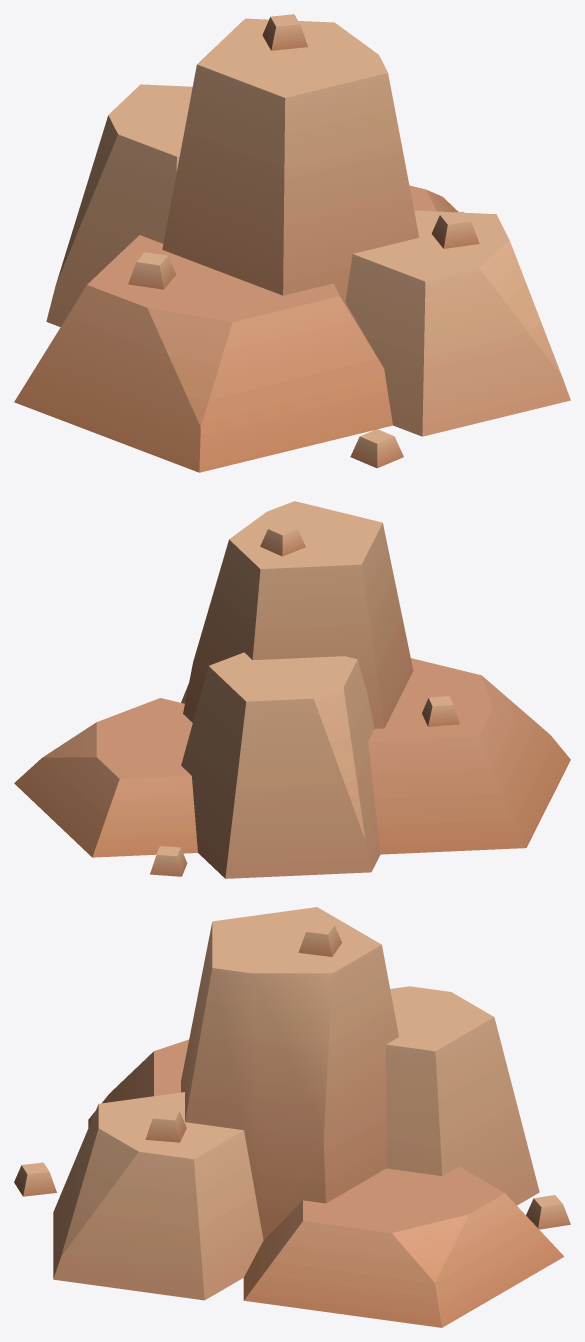
File: rock-sand-b.glb
3 views of the same model, one above another, from view 1: azimuth 30°, elevation 25°; view 2: azimuth 150°, elevation 25°; view 3: azimuth 270°, elevation 25° (orthographic). The views are drawn at different scales.
Parts seen in each view (by area): view 1: rock-sand-b; view 2: rock-sand-b; view 3: rock-sand-b.
Part boxes in pixels (<box>): rock-sand-b: <box>14,14,570,472</box>; rock-sand-b: <box>14,501,570,878</box>; rock-sand-b: <box>14,907,570,1327</box>.
Size of the model in its own units: 0.7991 by 0.4487 by 0.7895.
1 material, 1 textured.
